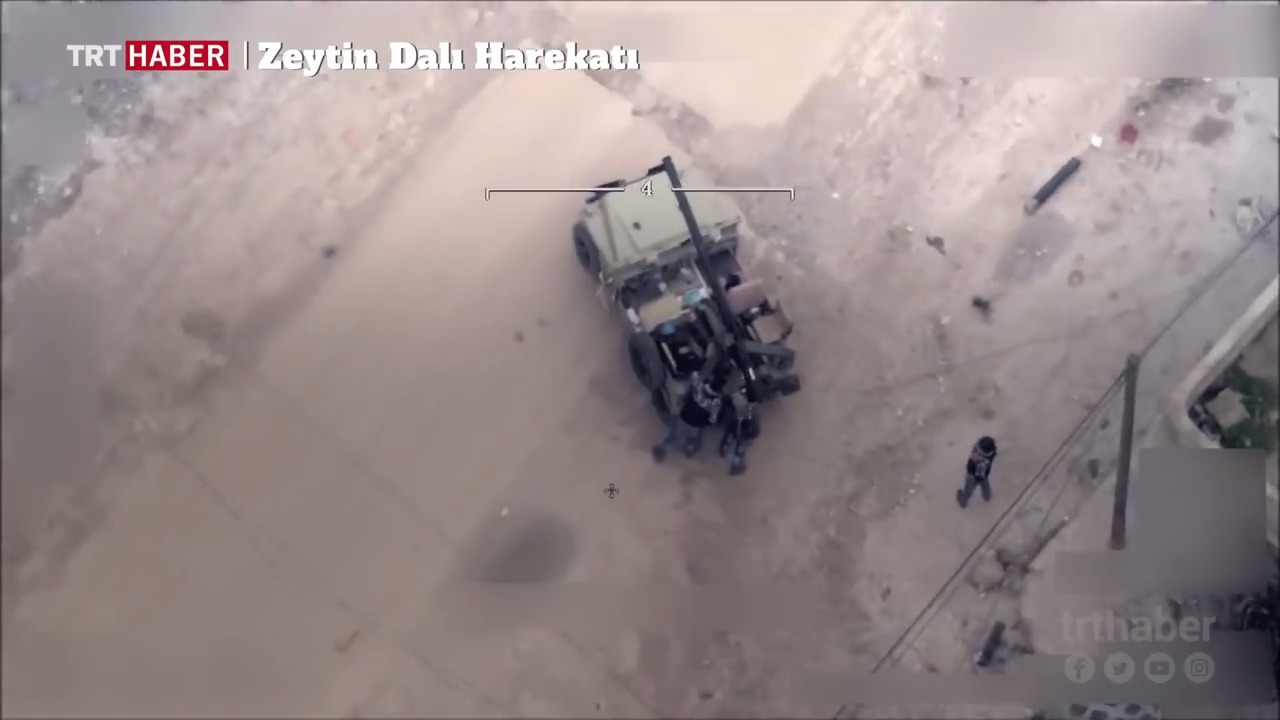arac: (578, 150, 802, 410)
insan: (658, 361, 724, 490), (719, 384, 774, 477), (960, 430, 1004, 518)
